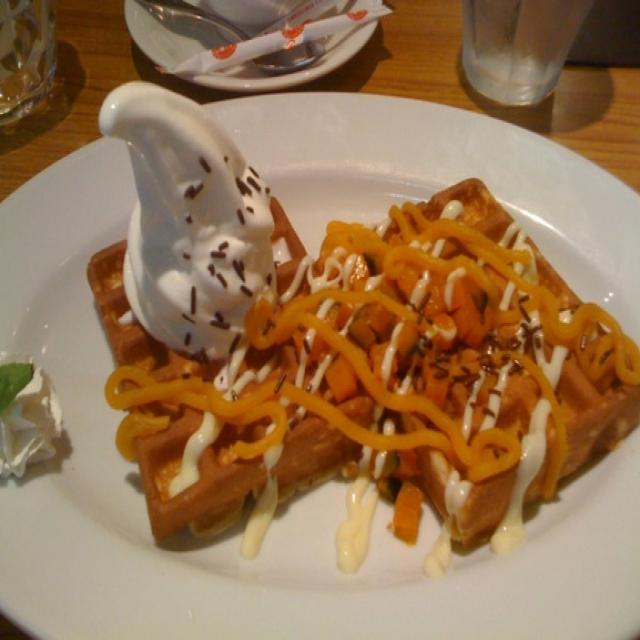蔬菜料理: (16, 21, 570, 640)
